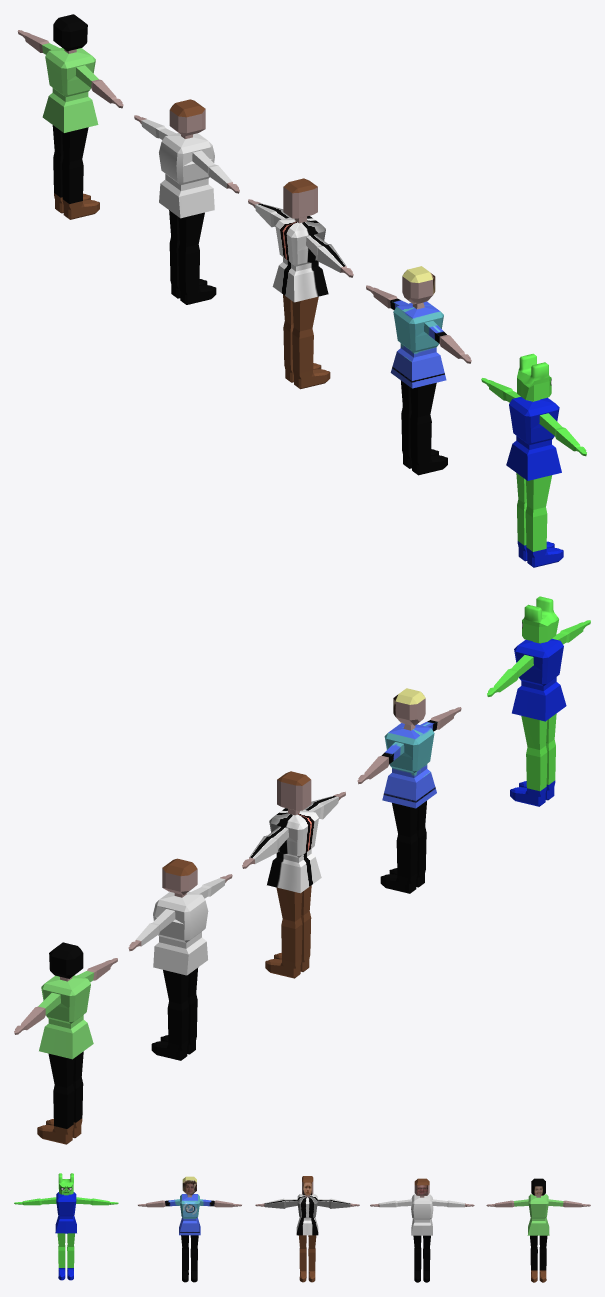
Rendered from humanoiders.fbx.
3 views of the same model, one above another, from view 1: azimuth 30°, elevation 25°; view 2: azimuth 150°, elevation 25°; view 3: azimuth 270°, elevation 25° (orthographic). The views are drawn at different scales.
Visible parts, largest first — view 1: Humanoid.002, Humanoid.003, Humanoid, Humanoid.001, Humanoid.004; view 2: Humanoid.002, Humanoid.003, Humanoid, Humanoid.001, Humanoid.004; view 3: Humanoid.002, Humanoid.003, Humanoid, Humanoid.004, Humanoid.001.
Part boxes in pixels (x1,y1,x2,y2): Humanoid.002: (248,178,353,389); Humanoid.003: (134,99,239,304); Humanoid: (481,353,586,567); Humanoid.001: (366,266,471,475); Humanoid.004: (17,14,123,219); Humanoid.002: (242,771,345,978); Humanoid.003: (128,858,232,1060); Humanoid: (487,596,590,806); Humanoid.001: (357,688,461,893); Humanoid.004: (14,942,117,1144); Humanoid.002: (255,1176,359,1282); Humanoid.003: (370,1178,474,1282); Humanoid: (14,1173,118,1280); Humanoid.004: (486,1178,590,1282); Humanoid.001: (138,1176,241,1282).
Size of the model in its own units: 279 by 1059 by 5514.
